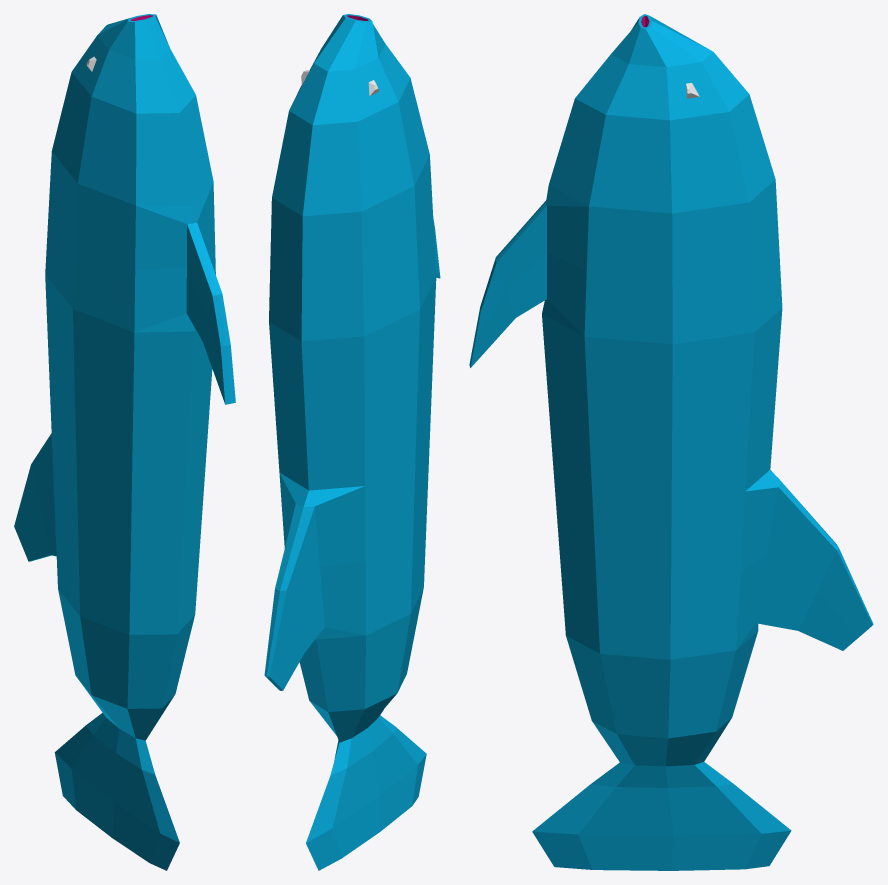
Rendered from Anchovy 2.fbx.
The picture shows the model from 3 angles, left to right: view 1: azimuth 30°, elevation 25°; view 2: azimuth 150°, elevation 25°; view 3: azimuth 270°, elevation 25°; orthographic projection. The views are drawn at different scales.
Visible parts, largest first — view 1: Circle; view 2: Circle; view 3: Circle.
Part boxes in pixels (x1,y1,x2,y2): Circle: (14,14,235,870); Circle: (264,14,440,870); Circle: (469,14,873,870).
Size of the model in its own units: 64.03 by 396 by 169.
